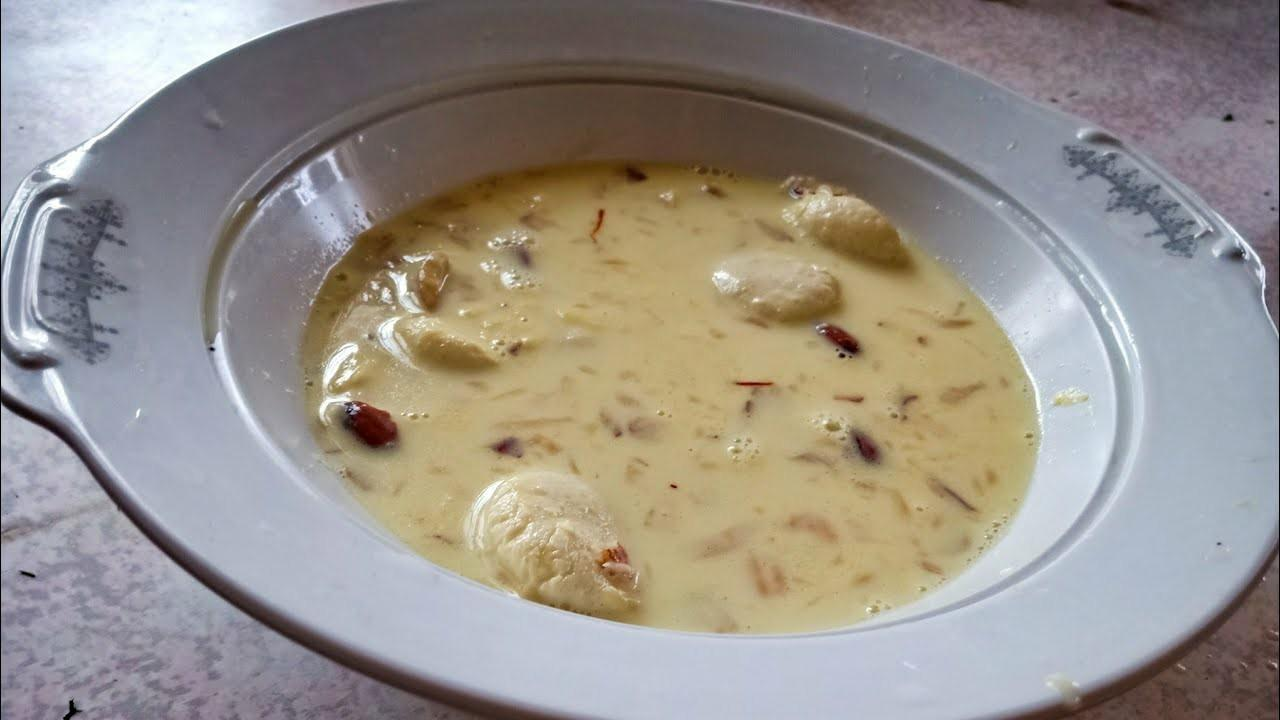RasMalai: (289, 155, 1054, 634)
